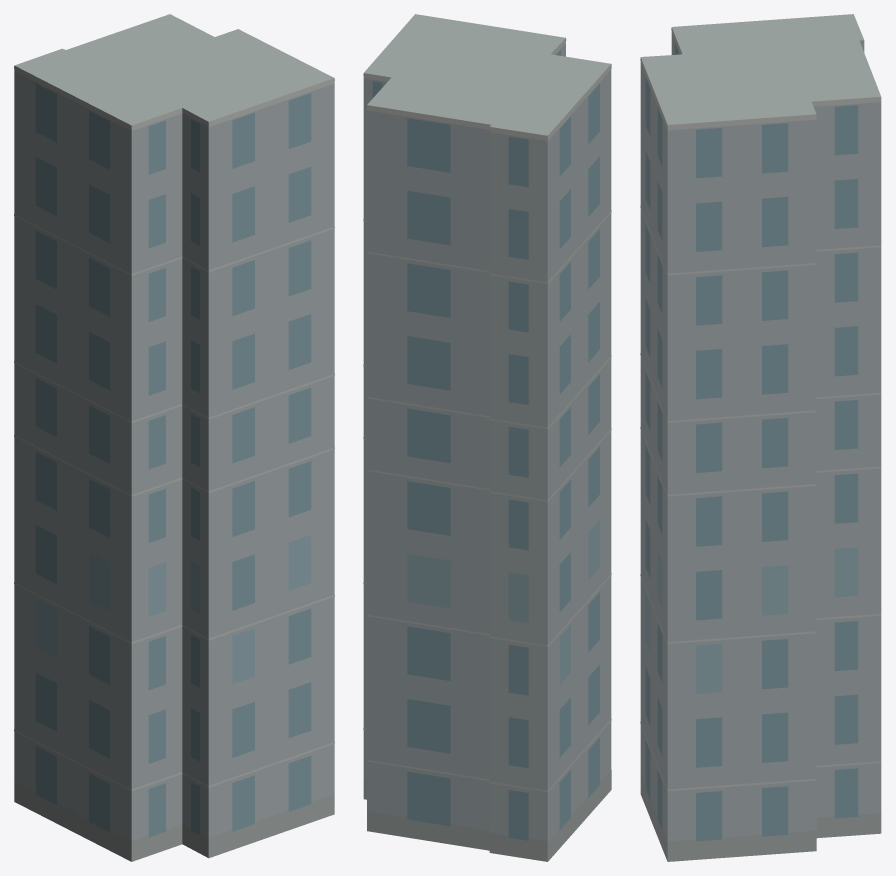
The model's file is survey-upis-32760077.glb.
The picture shows the model from 3 angles, left to right: view 1: azimuth 30°, elevation 25°; view 2: azimuth 150°, elevation 25°; view 3: azimuth 270°, elevation 25°; orthographic projection.
Visible parts, largest first — view 1: survey-upis-32760077.tmp; view 2: survey-upis-32760077.tmp; view 3: survey-upis-32760077.tmp.
Boxes of the visible parts, x1,y1,x2,y2 form: survey-upis-32760077.tmp: (14, 14, 334, 861); survey-upis-32760077.tmp: (363, 14, 611, 861); survey-upis-32760077.tmp: (640, 14, 881, 861).
Bounding box in the file's own units: 10.82 × 33.4 × 9.92.
